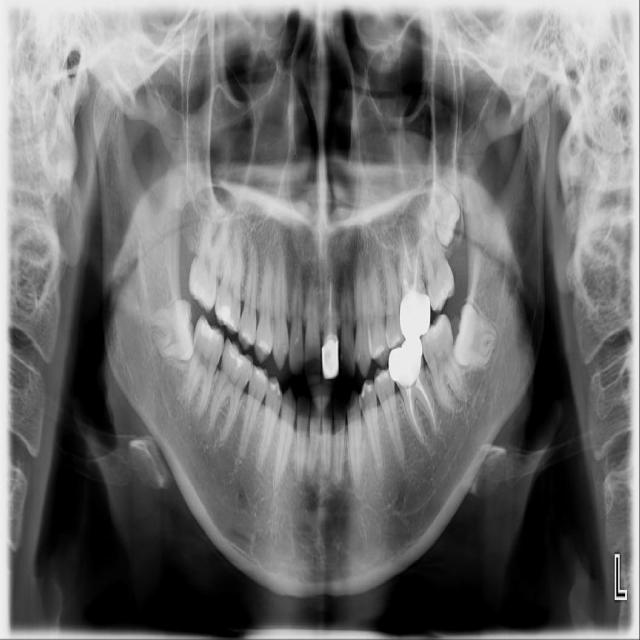Crown: (388, 334, 423, 391), (400, 288, 430, 342)
Filling: (420, 312, 452, 366), (427, 263, 455, 314), (368, 318, 390, 367), (321, 328, 338, 384), (374, 365, 395, 404), (340, 330, 356, 380), (386, 312, 408, 348), (358, 378, 377, 416), (201, 319, 221, 342), (218, 303, 234, 322)
Root Canal Treatment: (415, 377, 435, 431), (407, 384, 422, 441), (400, 225, 411, 270), (413, 251, 418, 290), (329, 277, 332, 328), (402, 275, 408, 293)
impacted tooth: (145, 299, 194, 361)
